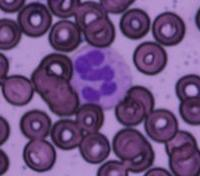N: (70, 45, 132, 108)
